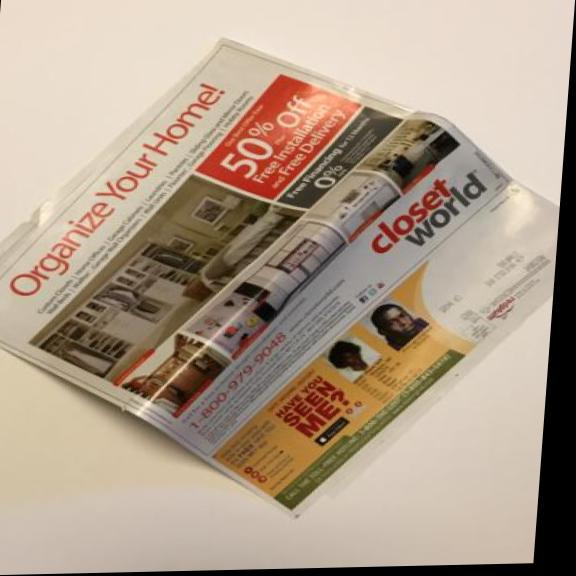Kertas: (0, 25, 573, 526)
